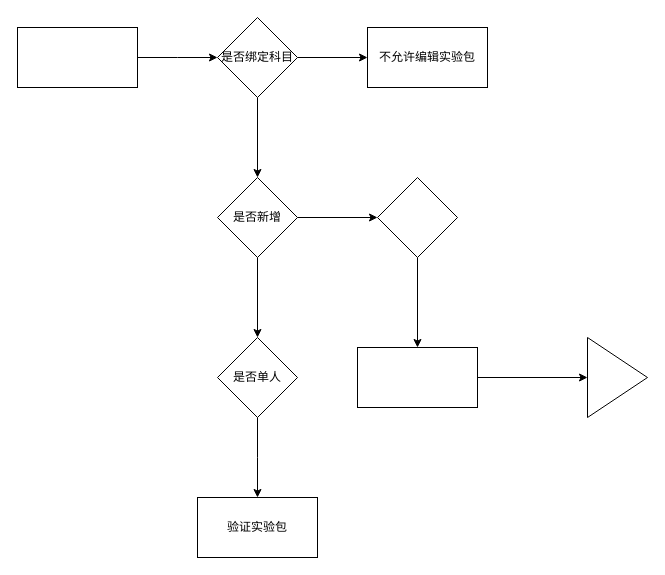
Image size: 665x575. Some labels were removed from this diagram. The shapes that lost their labels are listed below. From the top down, each one's centre as x and y in pixels, then its label:
At point 77,57: "保存实验包".
At point 417,217: "是否".
